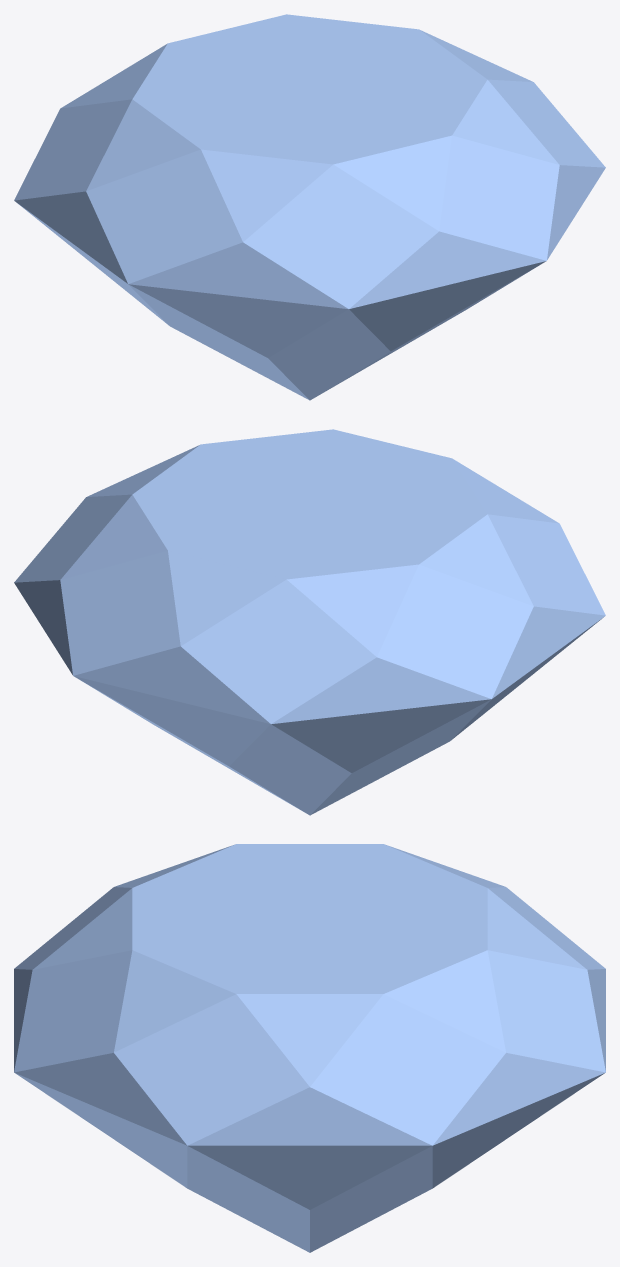
File: gem.glb
3 views of the same model, one above another, from view 1: azimuth 30°, elevation 25°; view 2: azimuth 150°, elevation 25°; view 3: azimuth 270°, elevation 25° (orthographic). The views are drawn at different scales.
Visible parts, largest first — view 1: Gem; view 2: Gem; view 3: Gem.
Part boxes in pixels (<box>): Gem: <box>14,14,605,400</box>; Gem: <box>14,429,605,815</box>; Gem: <box>14,844,605,1252</box>.
Bounding box in the file's own units: 1.85 × 1.15 × 1.85.
Materials: 1 (1 with a texture image).
